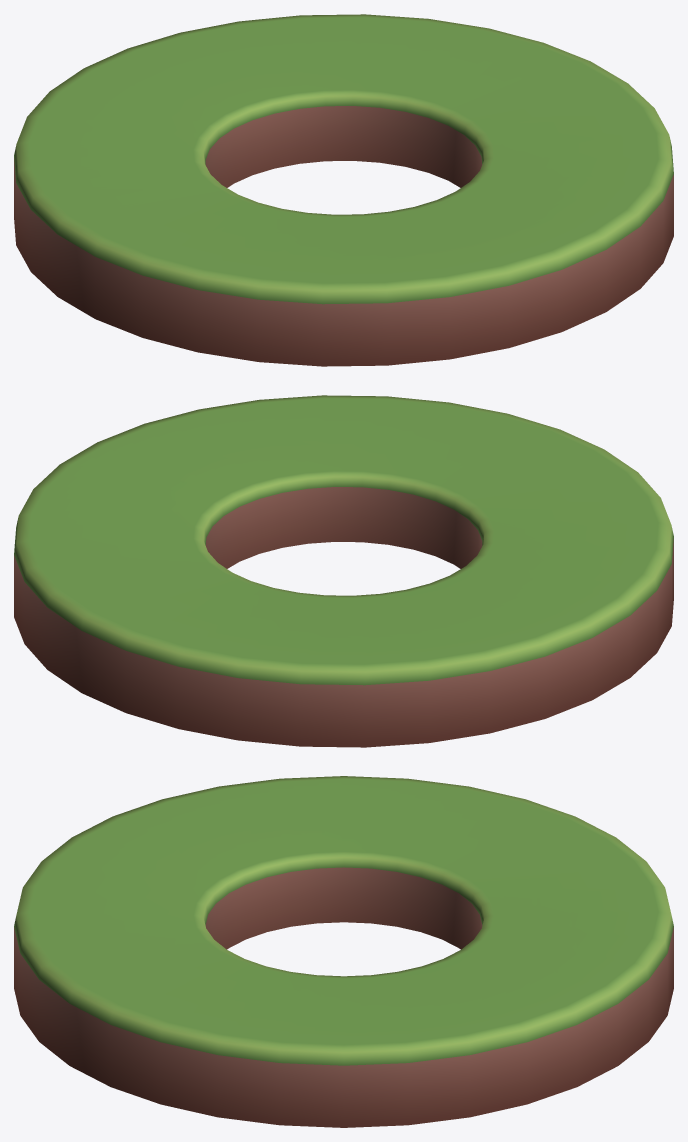
File: Forest_Circle.fbx
3 views of the same model, one above another, from view 1: azimuth 30°, elevation 25°; view 2: azimuth 150°, elevation 25°; view 3: azimuth 270°, elevation 25° (orthographic).
Parts seen in each view (by area): view 1: Circle.016; view 2: Circle.016; view 3: Circle.016.
Boxes of the visible parts, x1,y1,x2,y2 form: Circle.016: [14, 14, 673, 366]; Circle.016: [14, 395, 673, 747]; Circle.016: [14, 776, 673, 1127].
Bounding box in the file's own units: 455 × 58.15 × 455.
